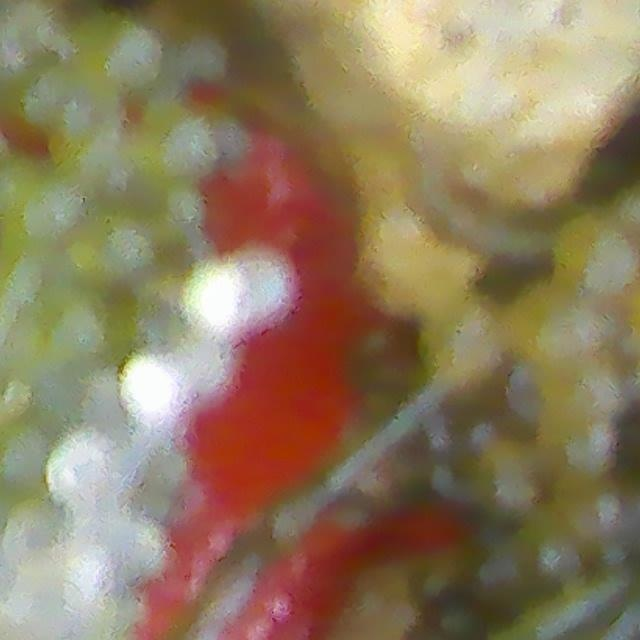SeaGrape: (44, 287, 116, 368), (111, 349, 183, 426), (48, 431, 125, 503), (0, 495, 71, 569), (177, 256, 236, 336), (0, 417, 53, 498), (239, 250, 295, 315), (60, 525, 113, 587), (188, 333, 234, 389)
